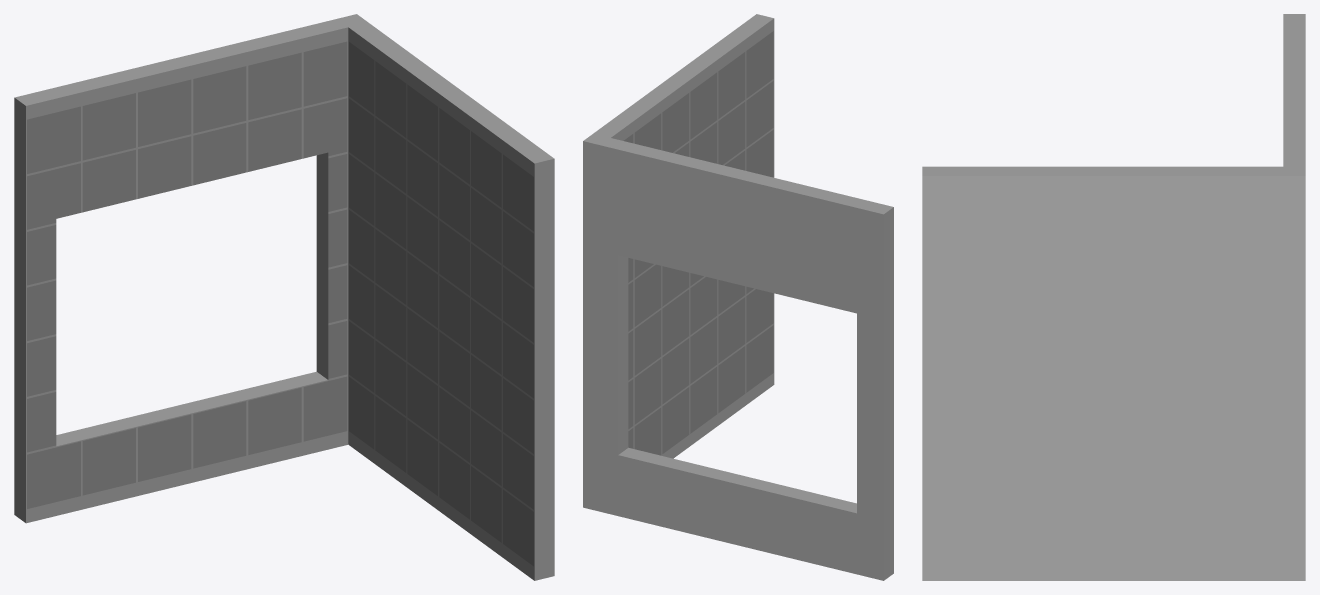
The model's file is Wall1_C7_13.fbx.
3 views of the same model, side by side, from view 1: azimuth 30°, elevation 25°; view 2: azimuth 150°, elevation 25°; view 3: azimuth 270°, elevation 25° (orthographic). The views are drawn at different scales.
Visible parts, largest first — view 1: Wall1_C7_13; view 2: Wall1_C7_13; view 3: Wall1_C7_13.
Boxes of the visible parts, x1,y1,x2,y2 form: Wall1_C7_13: [14, 14, 554, 580]; Wall1_C7_13: [583, 14, 893, 580]; Wall1_C7_13: [922, 14, 1305, 580].
Bounding box in the file's own units: 258 × 300 × 258.
